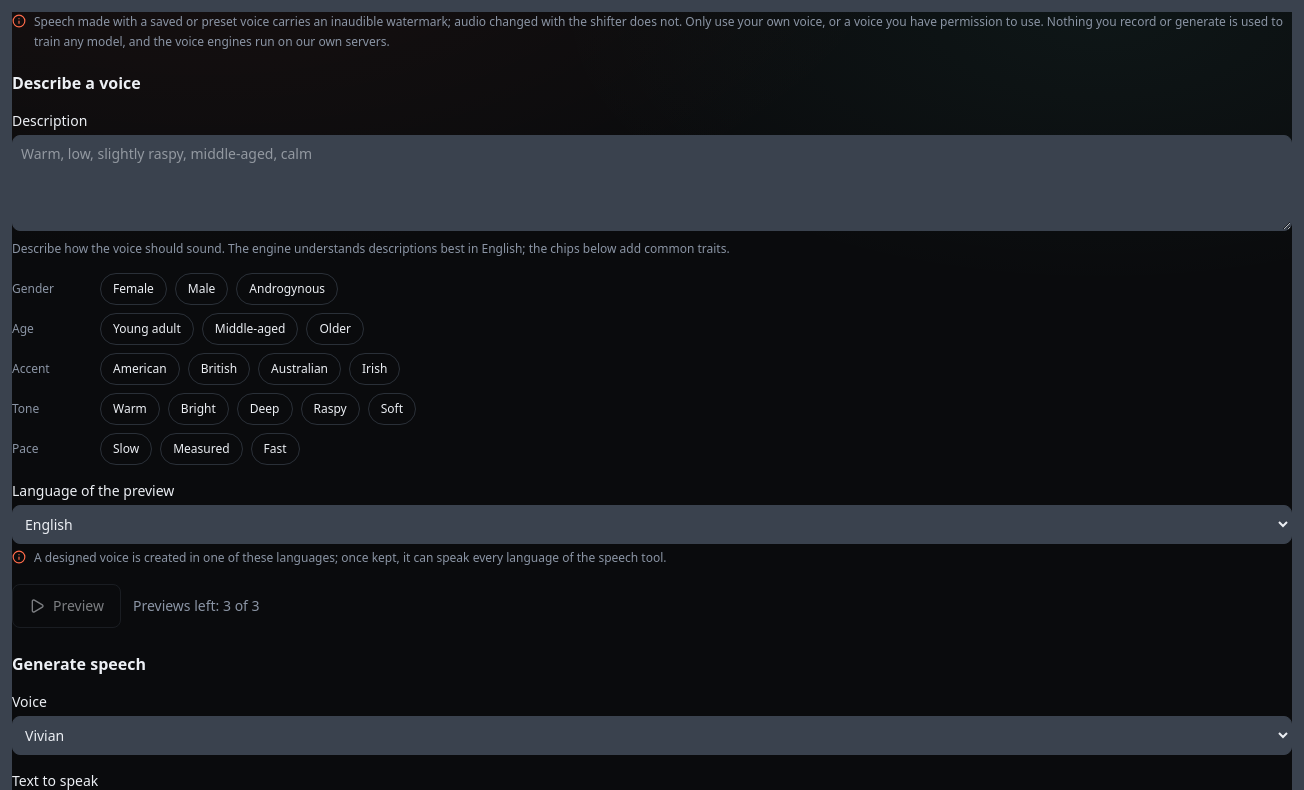
Scenario: designer preview counter (acceptance 4) › a server preview_limit (another tab) also drops the counter to 0
Type "bright" into the text box labelled "Description" at [652, 183], box [12,135,1292,231]
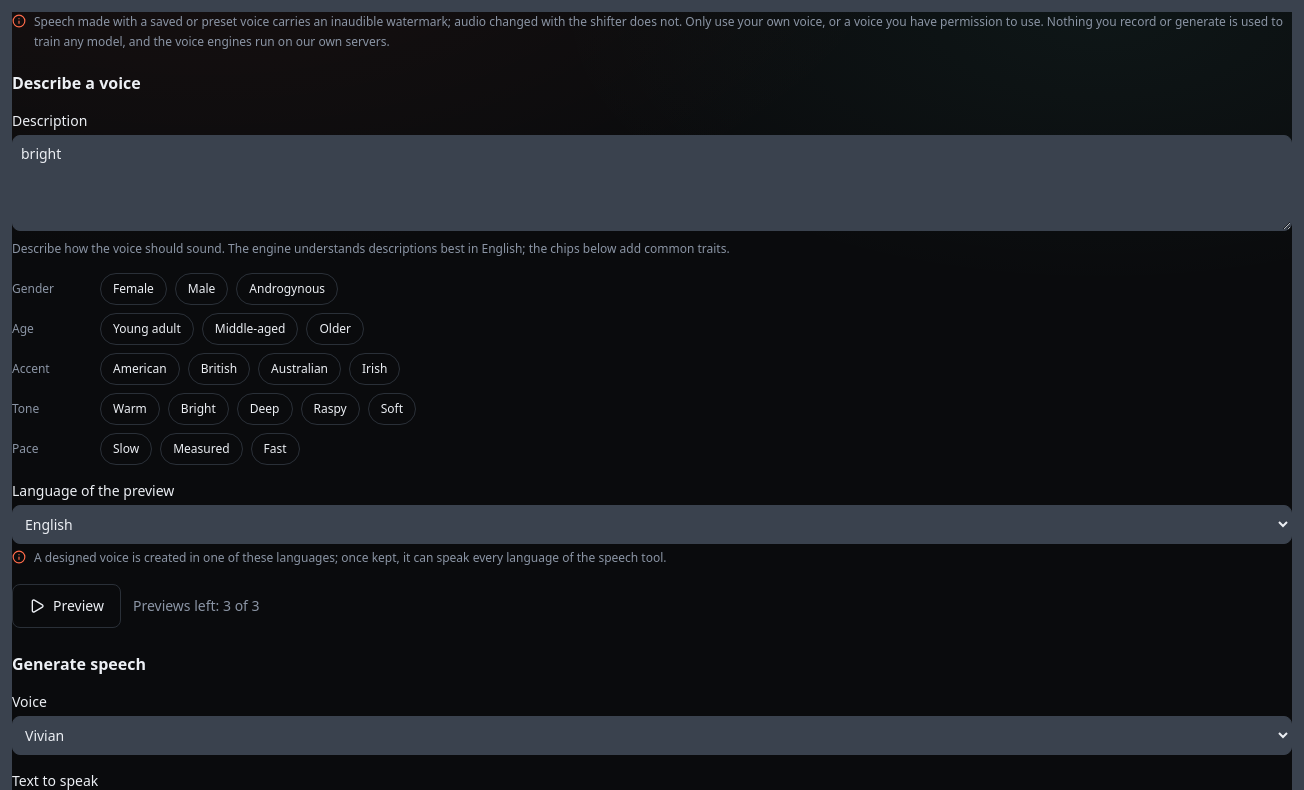
Click the button "Preview" at [66, 606], box [12,584,121,628]
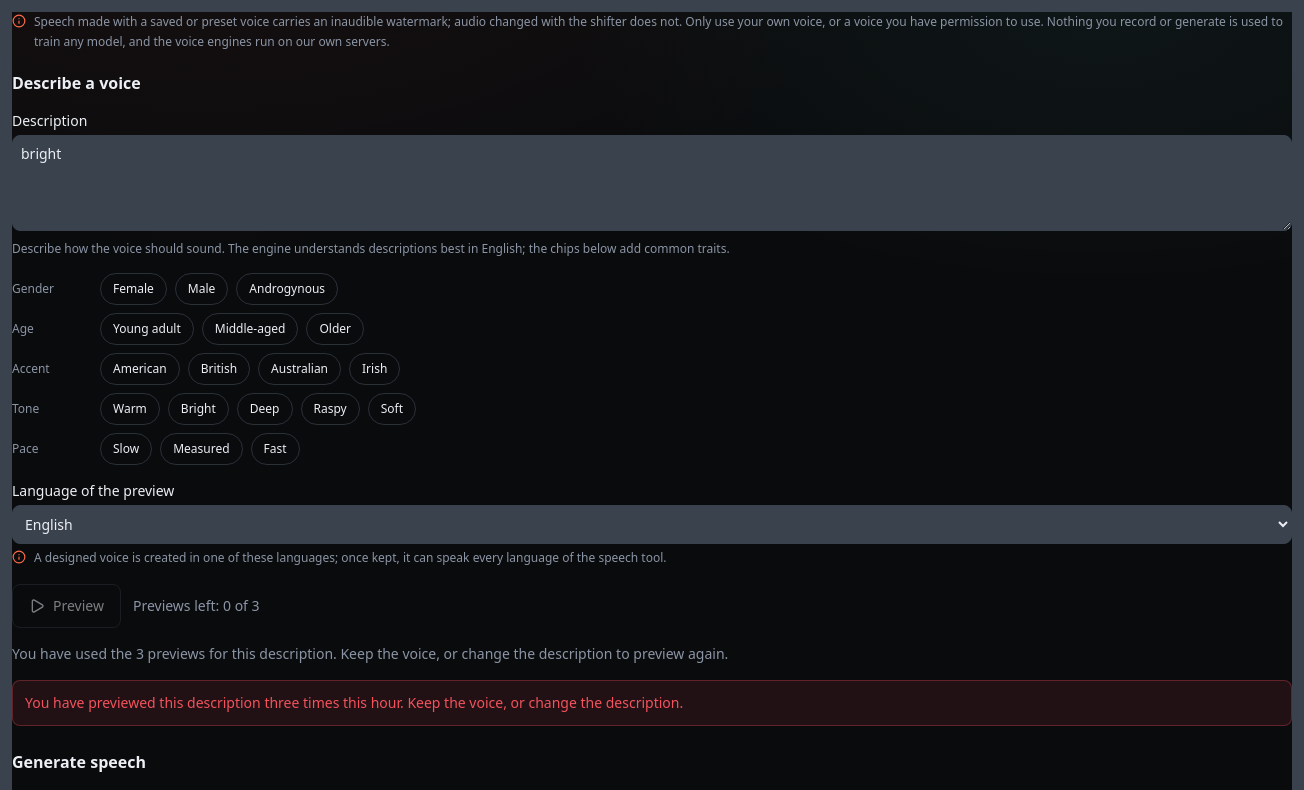
Expected: the text with test id "previews-left" reads "Previews left: 0 of 3", [133,596,260,614]
Expected: the message shows "three times this hour", [25,692,683,712]
